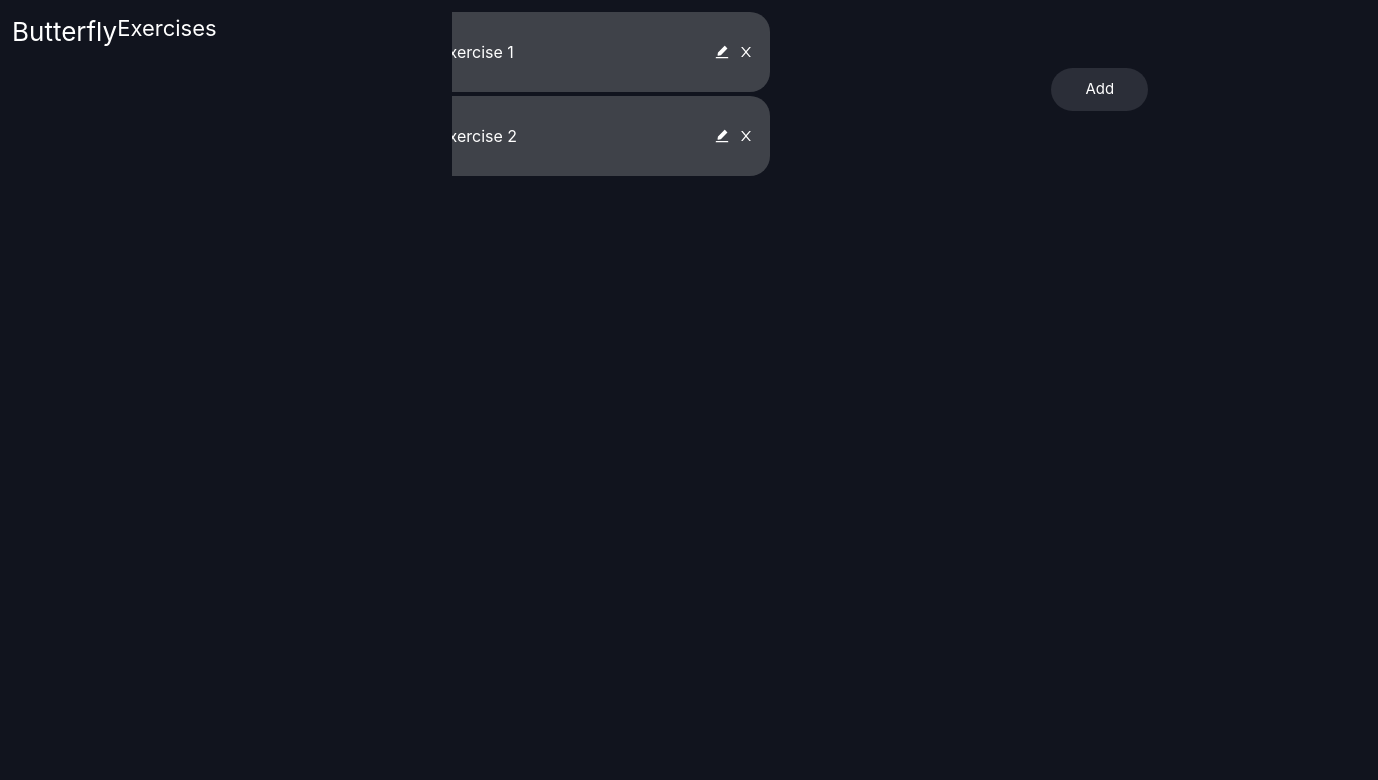
Scenario: Integration tests › Создание нового упражнения
Click the button with test id "add-btn" at (1100, 90), box [1051,68,1148,111]
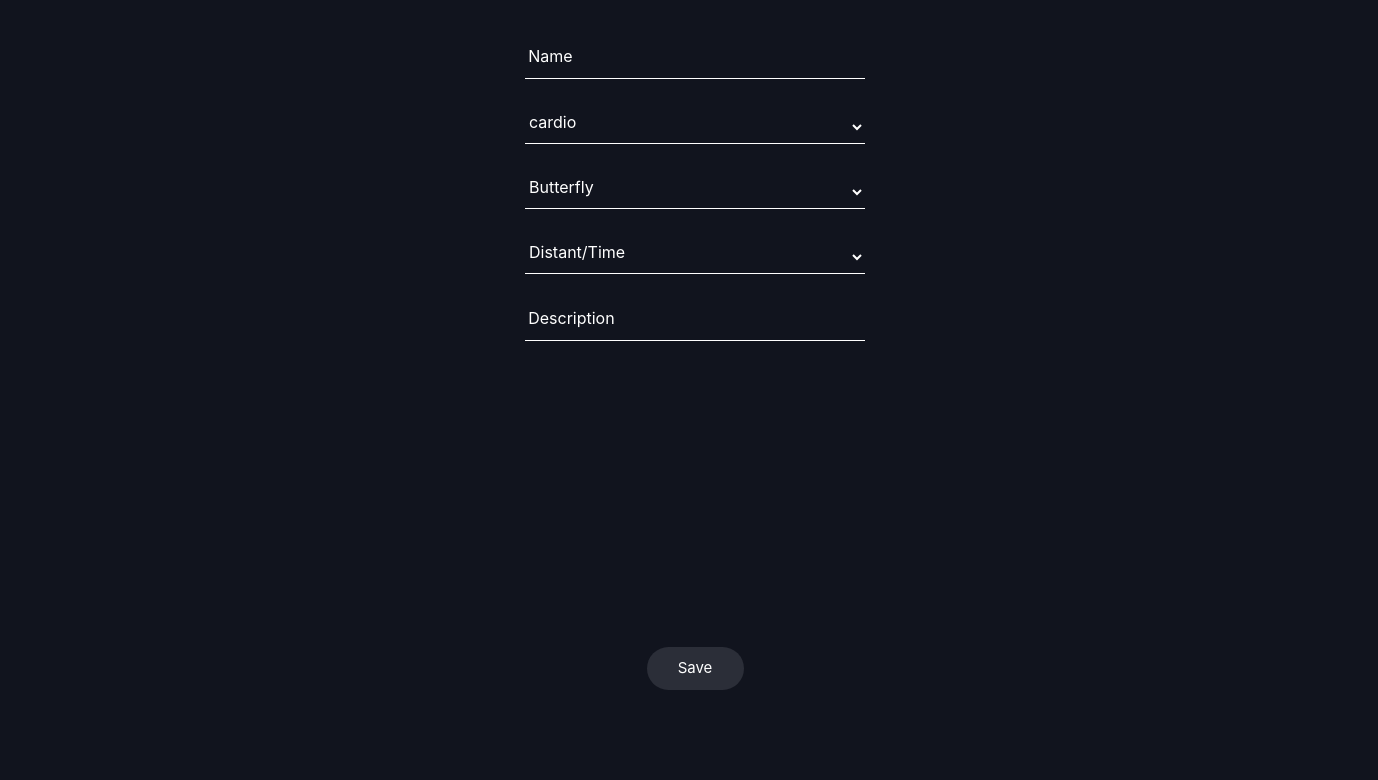
Now the field with test id "name-input" is shown
Type "Test" into the field with test id "name-input" at (695, 62), box [525,44,865,79]
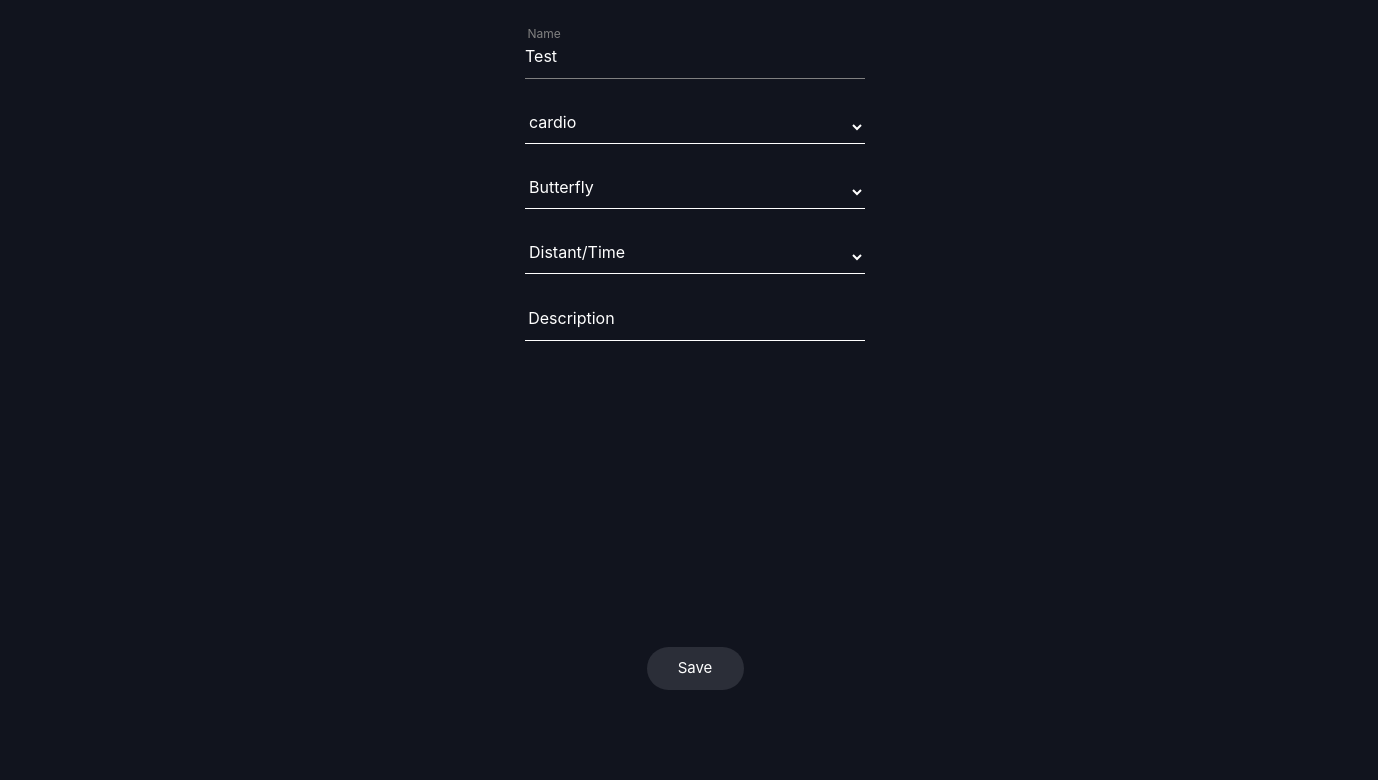
Click the button with test id "save-btn" at (695, 668), box [646,647,744,690]
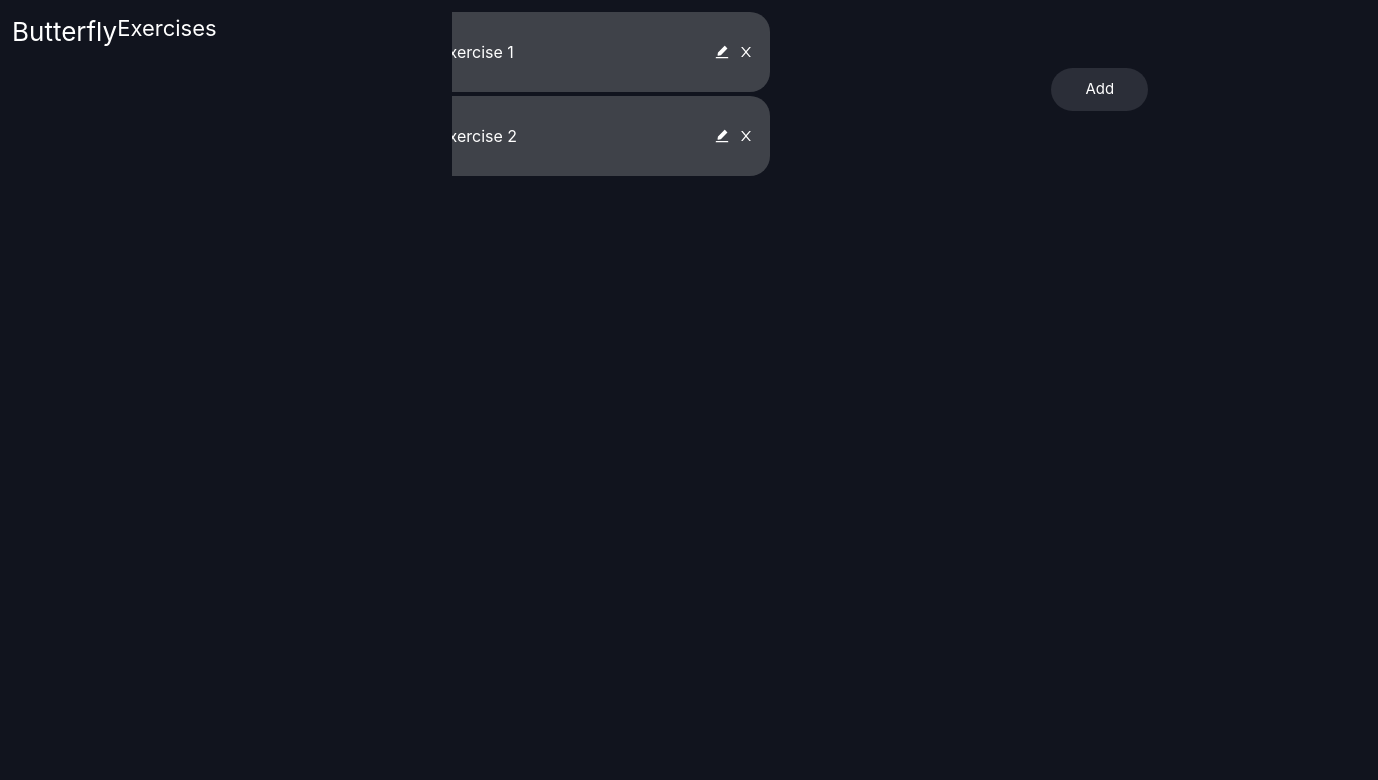
Now the text "Butterfly" is shown, box [12,16,117,47]
